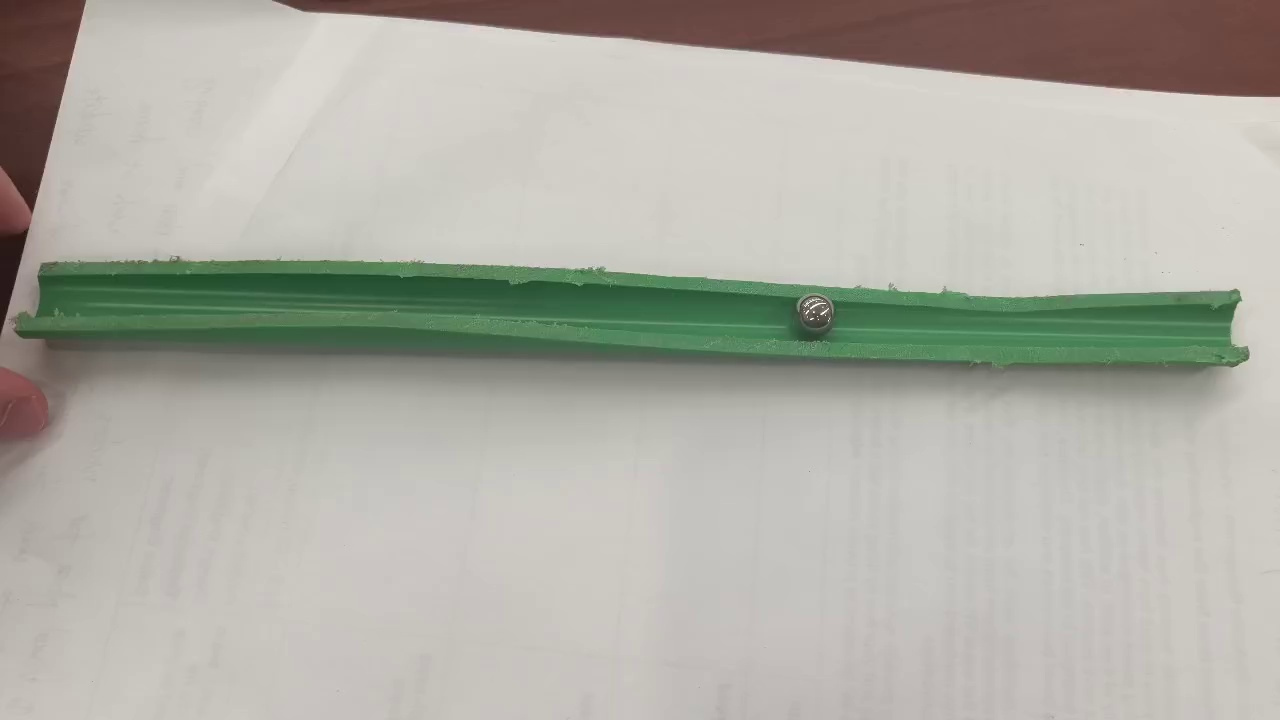ball: (797, 294, 834, 330)
